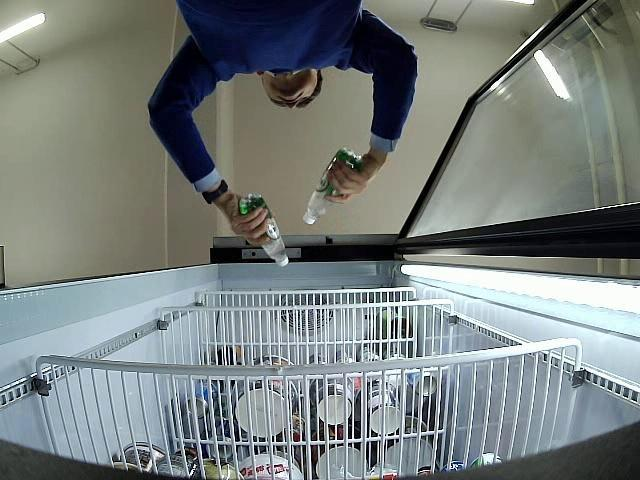18_trevi: (304, 148, 362, 226), (240, 194, 288, 266)
